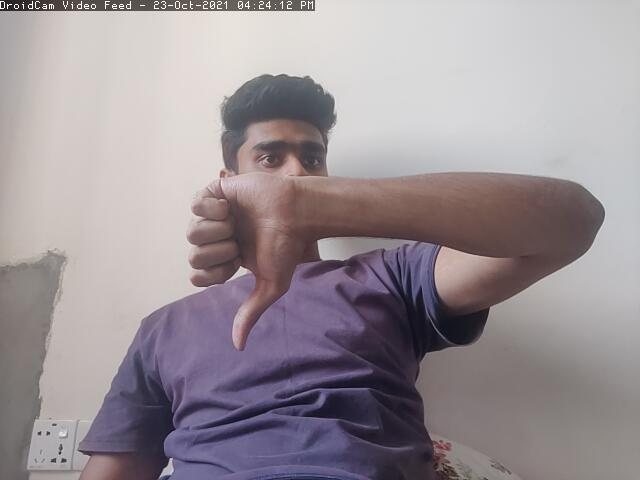ThumbsDown: (180, 165, 300, 353)
